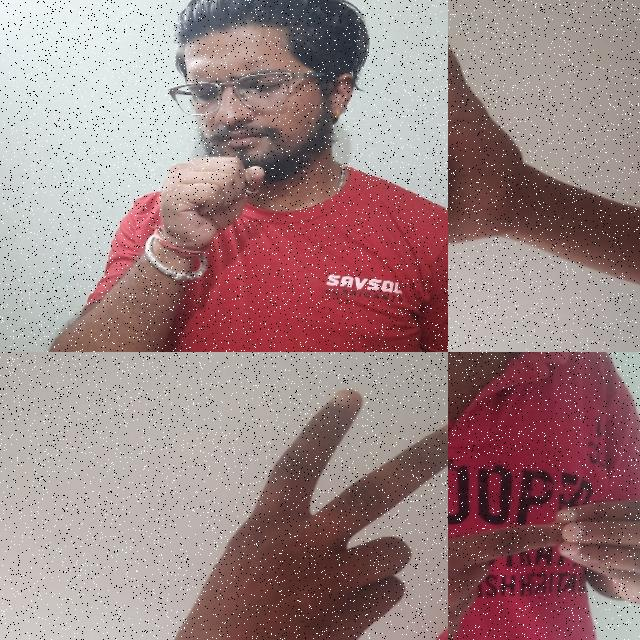Fist Mouth: (132, 0, 358, 263)
Five Fathers: (448, 443, 640, 640)
Reversed Victory: (139, 383, 448, 640)
Thumbs Up: (448, 16, 544, 278)
